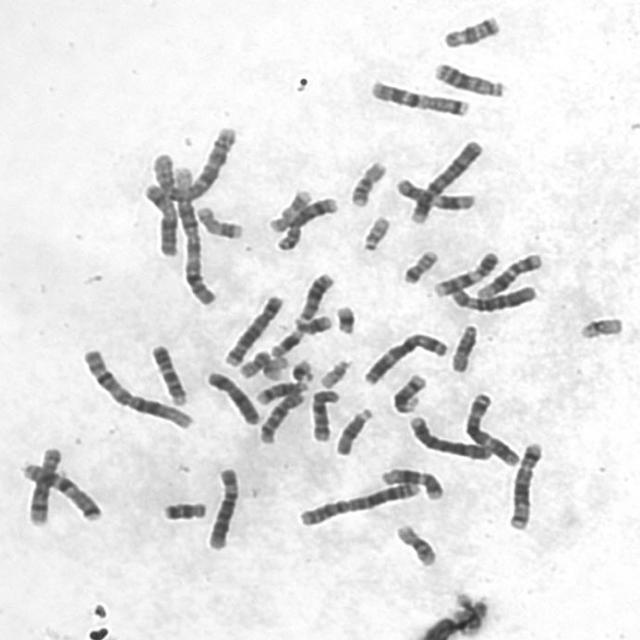A1: (76, 344, 196, 432), (168, 158, 218, 306)
A2: (144, 120, 238, 202), (294, 477, 422, 529)
A3: (358, 328, 451, 388), (460, 387, 522, 467)
B4: (404, 135, 486, 226), (405, 411, 494, 463)
B5: (220, 290, 285, 368), (502, 437, 545, 532)
C10: (254, 387, 306, 446), (304, 385, 342, 444)
C11: (390, 172, 478, 211), (266, 310, 333, 360)
C12: (472, 249, 544, 301), (375, 464, 445, 502)
C6: (201, 463, 241, 552), (444, 280, 538, 314)
C7: (16, 456, 104, 523), (365, 75, 471, 118)
C8: (22, 440, 65, 528), (264, 192, 340, 234)
C9: (428, 247, 501, 298), (145, 339, 189, 408)
D13: (429, 58, 507, 99), (291, 268, 336, 328)
D14: (388, 370, 428, 414), (252, 378, 310, 406)
D15: (330, 404, 375, 457), (446, 320, 480, 374)
E16: (345, 156, 389, 209), (391, 520, 438, 567)
E17: (265, 184, 314, 235), (191, 201, 246, 241)
E18: (439, 11, 502, 49), (158, 497, 208, 523)
F19: (574, 313, 626, 341), (263, 356, 289, 382)
F20: (398, 246, 441, 285), (234, 346, 272, 379)
G21: (330, 301, 358, 336), (287, 356, 316, 384)
G22: (358, 212, 392, 252), (315, 356, 353, 390)
X: (202, 366, 263, 426), (138, 178, 181, 258)
